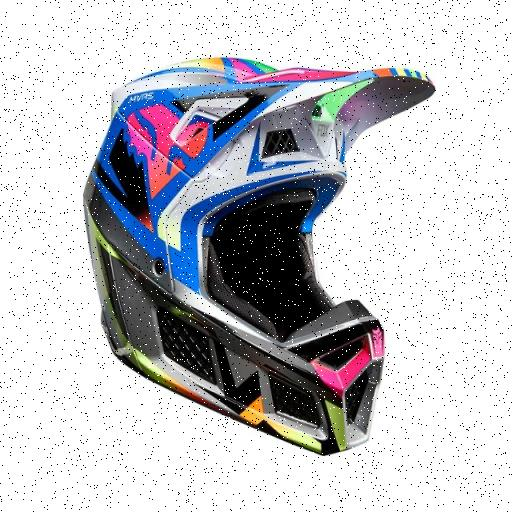Helmet: (78, 44, 436, 474)
